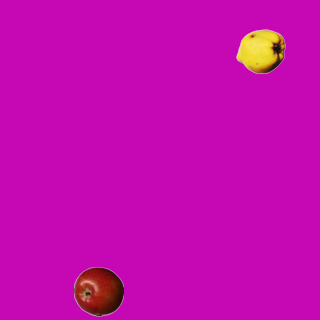Apple Braeburn: (73, 266, 123, 316)
Quince: (235, 26, 285, 76)
